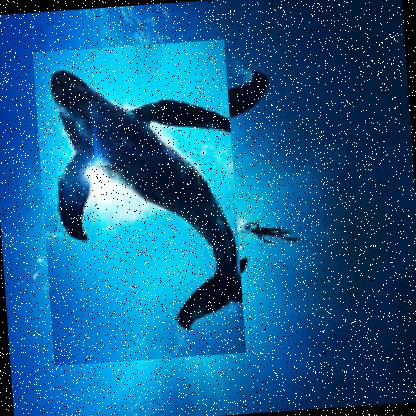blue_whale: (32, 38, 248, 366)
